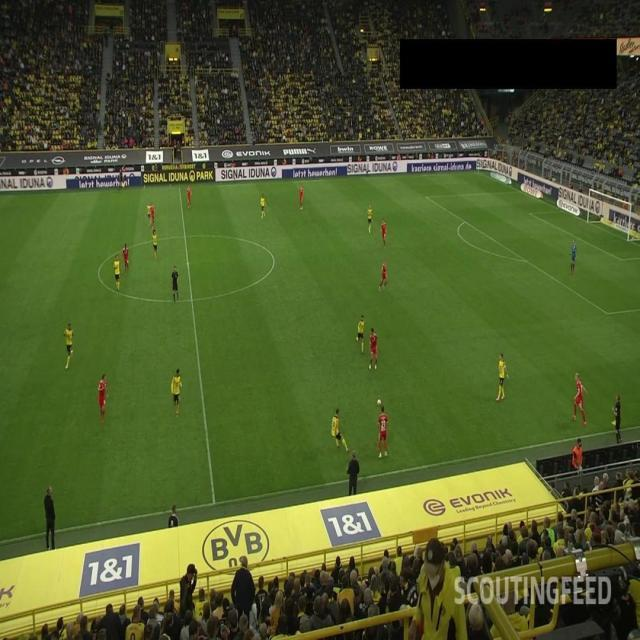ball: (377, 398, 382, 406)
goalkeeper: (570, 239, 578, 275)
player: (571, 372, 588, 427), (331, 408, 350, 453), (377, 405, 389, 459), (171, 368, 183, 417), (496, 353, 508, 402), (97, 373, 108, 426), (63, 322, 74, 370), (369, 327, 379, 371), (356, 315, 365, 355), (379, 260, 389, 292), (113, 254, 120, 292), (122, 243, 129, 275), (152, 228, 158, 260), (367, 204, 373, 234), (381, 219, 387, 248), (260, 193, 266, 219), (150, 202, 156, 228), (299, 186, 305, 211), (186, 185, 192, 209), (146, 201, 151, 227)
referee: (613, 395, 623, 443), (172, 265, 180, 304), (118, 169, 126, 192)
